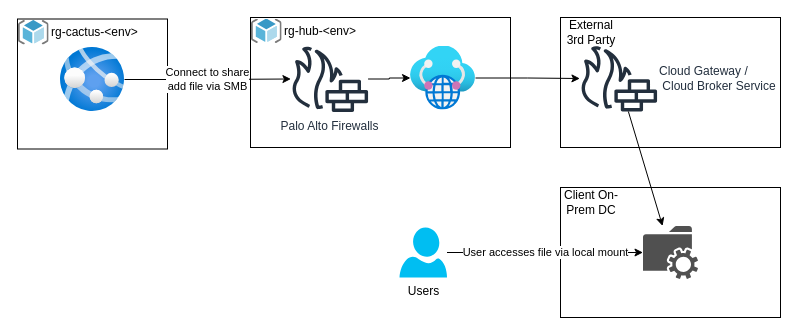
Image size: 798x335. Some labels were removed from this diagram. The box of each missing label's shape, as (x1, y1, x2, y2) in pixels:
Cactus Web: (60, 47, 124, 111)
On-Premises file share: (642, 226, 698, 278)
Virtual WAN: (410, 46, 475, 110)
